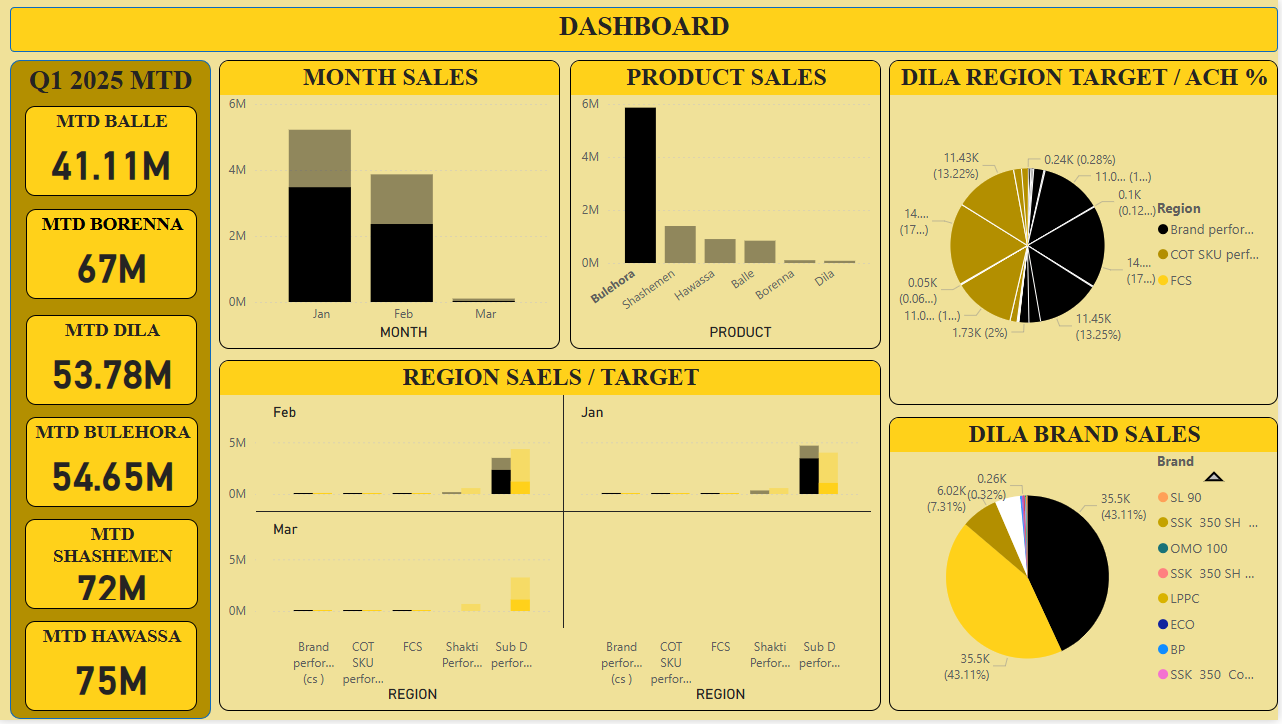

The page's visual inventory and layout, read from the dashboard file:
{"tool":"powerbi","page":{"name":"Page 1","canvas":[1280,720],"ordinal":0},"visuals":[{"type":"shape","box":[12,60,201,659],"z":0},{"type":"textbox","box":[12,60,201,46],"z":1000},{"type":"card","title":"MTD BALLE","fields":{"Values":["MTD 2025.MTD Balle"]},"box":[27,106,172,90],"z":2000},{"type":"card","title":"MTD BORENNA","fields":{"Values":["MTD 2025.MTD Borenna"]},"box":[28,209,171,90],"z":3000},{"type":"card","title":"MTD DILA","fields":{"Values":["MTD 2025.MTD Dila"]},"box":[28,315,171,90],"z":4000},{"type":"card","title":"MTD BULEHORA","fields":{"Values":["MTD 2025.MTD Bulehora"]},"box":[28,417,172,90],"z":5000},{"type":"card","title":"MTD SHASHEMEN","fields":{"Values":["MTD 2025.MTD Shashemen"]},"box":[27,519,173,90],"z":6000},{"type":"card","title":"MTD HAWASSA","fields":{"Values":["MTD 2025.MTD Hawassa"]},"box":[27,621,172,90],"z":7000},{"type":"pieChart","title":"DILA REGION TARGET / ACH %","fields":{"Category":["Dila_2025.Region"],"Series":["Dila_2025.% ach"],"Y":["Dila_2025. Target"]},"box":[891,60,389,345],"z":8000},{"type":"pieChart","title":"DILA BRAND SALES","fields":{"Category":["Dila_2025.Brand"],"Y":["Dila_2025.MTD act"]},"box":[891,417,389,294],"z":9000},{"type":"clusteredColumnChart","title":"MONTH SALES","fields":{"Category":["SALES REGION.MONTH"],"Y":["SALES REGION.SALES"]},"box":[221,60,341,289],"z":10000},{"type":"clusteredColumnChart","title":"PRODUCT SALES","fields":{"Category":["SALES REGION.PRODUCT"],"Y":["SALES REGION.SALES"]},"box":[572,60,311,289],"z":11000},{"type":"clusteredColumnChart","title":"REGION SAELS / TARGET","fields":{"Category":["SALES REGION.REGION"],"Y":["SALES REGION.SALES","SALES REGION.TARGET"],"Rows":["SALES REGION.MONTH"]},"box":[221,360,662,351],"z":12000},{"type":"shape","box":[12,7,1268,45],"z":13000},{"type":"textbox","box":[12,6,1268,46],"z":14000}]}

Visuals, with their boxes in screenshot pixels (x1, y1, x2, y2), scaled from the page's 1280x720 canvas onto the 1282x724 screenshot:
shape: crop(12, 60, 213, 723)
textbox: crop(12, 60, 213, 107)
"MTD BALLE" card: crop(27, 107, 199, 197)
"MTD BORENNA" card: crop(28, 210, 199, 301)
"MTD DILA" card: crop(28, 317, 199, 407)
"MTD BULEHORA" card: crop(28, 419, 200, 510)
"MTD SHASHEMEN" card: crop(27, 522, 200, 612)
"MTD HAWASSA" card: crop(27, 624, 199, 715)
"DILA REGION TARGET / ACH %" pieChart: crop(892, 60, 1281, 407)
"DILA BRAND SALES" pieChart: crop(892, 419, 1281, 715)
"MONTH SALES" clusteredColumnChart: crop(221, 60, 563, 351)
"PRODUCT SALES" clusteredColumnChart: crop(573, 60, 884, 351)
"REGION SAELS / TARGET" clusteredColumnChart: crop(221, 362, 884, 715)
shape: crop(12, 7, 1281, 52)
textbox: crop(12, 6, 1281, 52)
